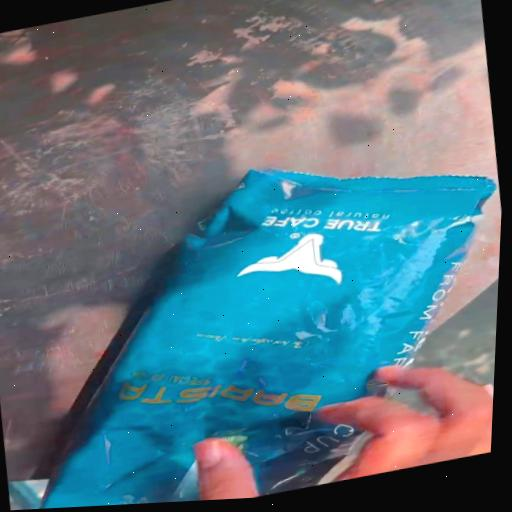cafe_hat: (42, 169, 495, 509)
